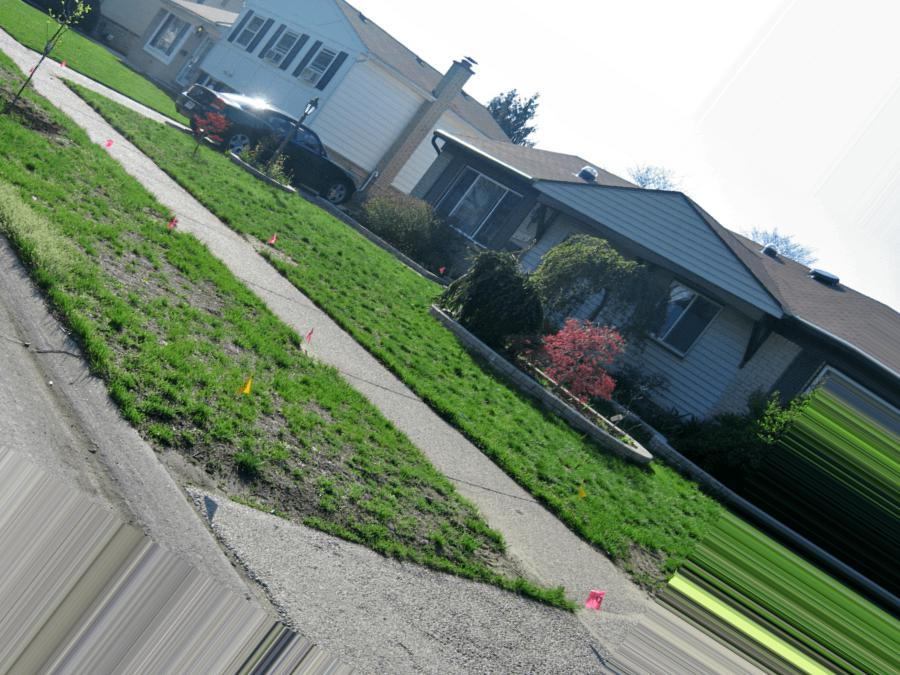patch: (103, 244, 155, 321), (345, 455, 400, 524), (296, 410, 333, 505), (170, 276, 209, 349), (206, 457, 241, 477)
